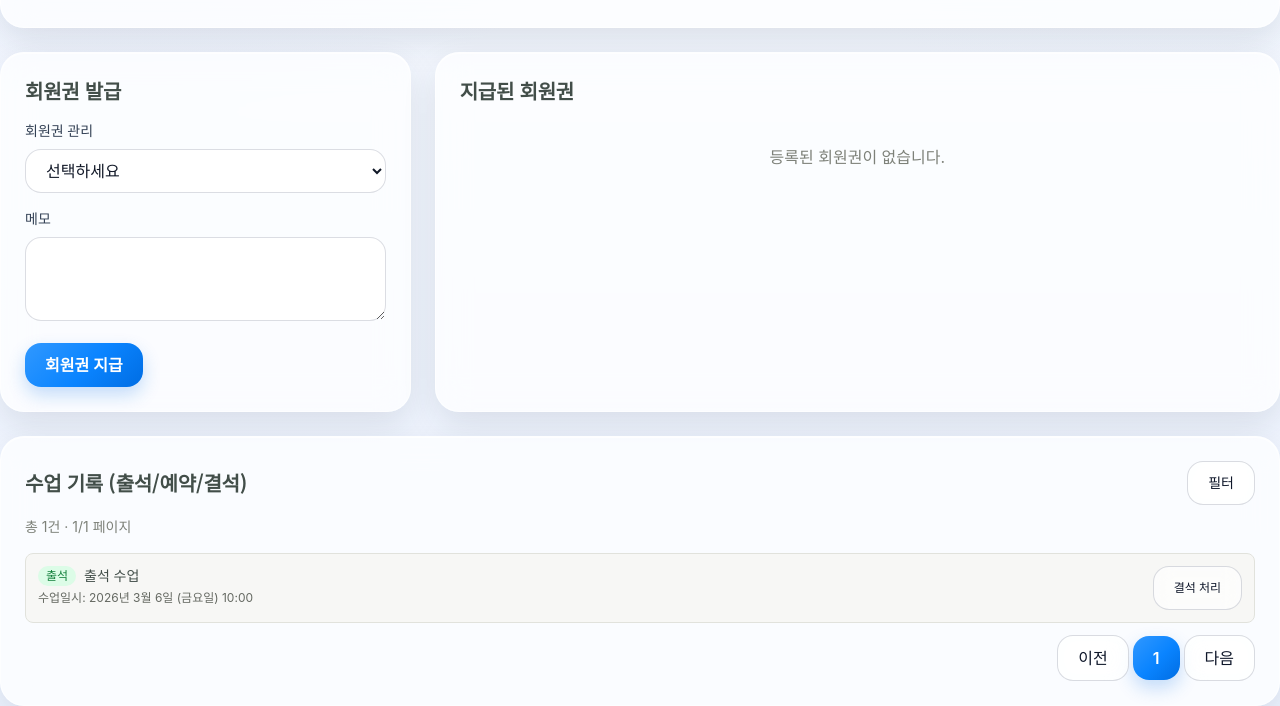
Scenario: CustomerDetail page › allows marking attended class as absent from activity list
(page scrolled)
What coordinates should you click on to do the following:
click the button "결석 처리"
I would click on:
 (1197, 588)
Its box is [1153,566,1242,610].
(page scrolled)
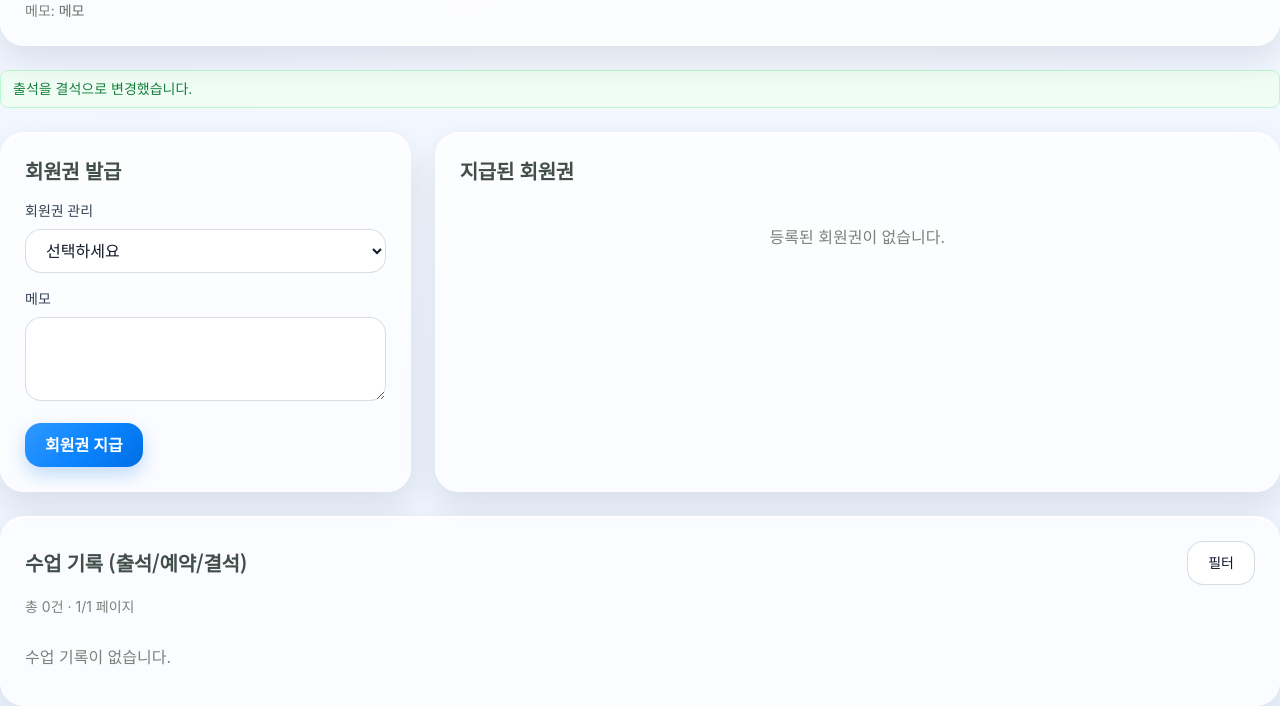
Check: the text "출석을 결석으로 변경했습니다." is shown, box [0,70,1279,108]
